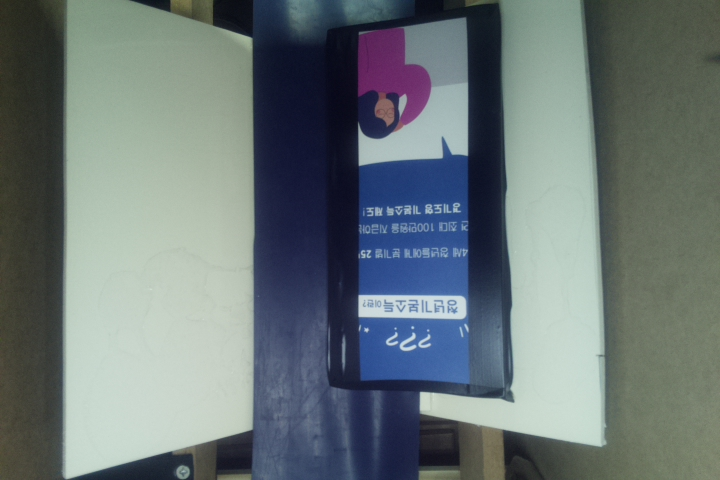book: (326, 3, 507, 400)
